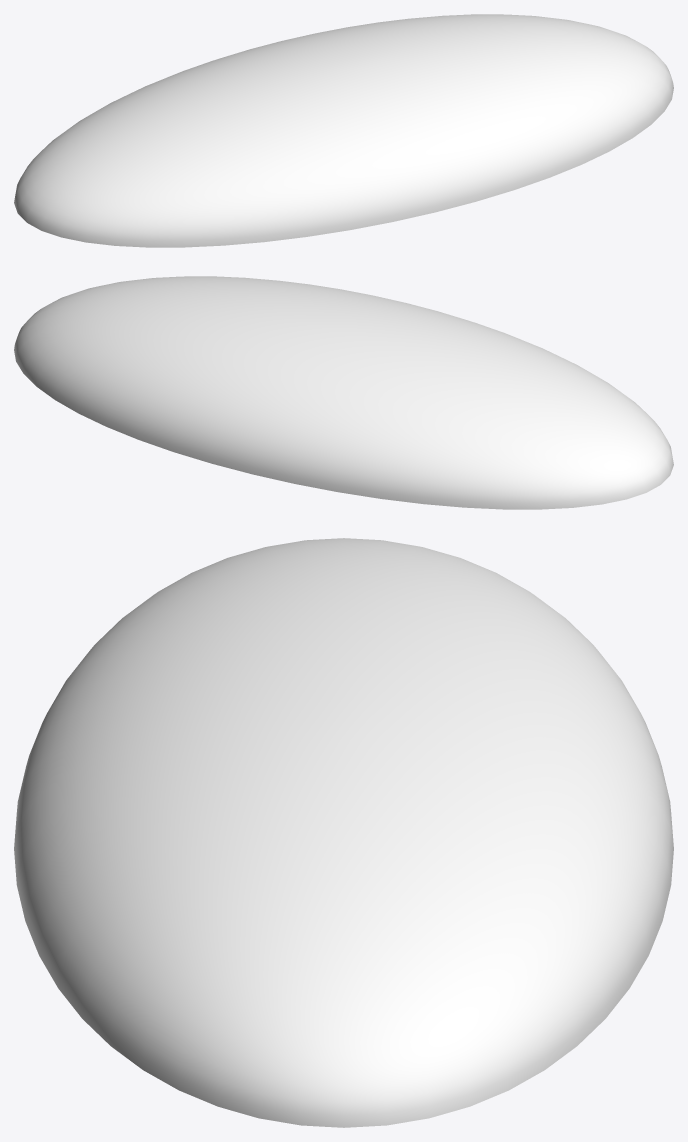
Rendered from hill_low.obj.
The picture shows the model from 3 angles, top to bottom: view 1: azimuth 30°, elevation 25°; view 2: azimuth 150°, elevation 25°; view 3: azimuth 270°, elevation 25°; orthographic projection. The views are drawn at different scales.
Visible parts, largest first — view 1: hill_low; view 2: hill_low; view 3: hill_low.
Part boxes in pixels (left/top/right/bottom): hill_low: left=14, top=14, right=673, bottom=247; hill_low: left=14, top=276, right=673, bottom=509; hill_low: left=14, top=538, right=673, bottom=1127.
Size of the model in its own units: 10 by 1.2 by 5.
1 material, 1 textured.
